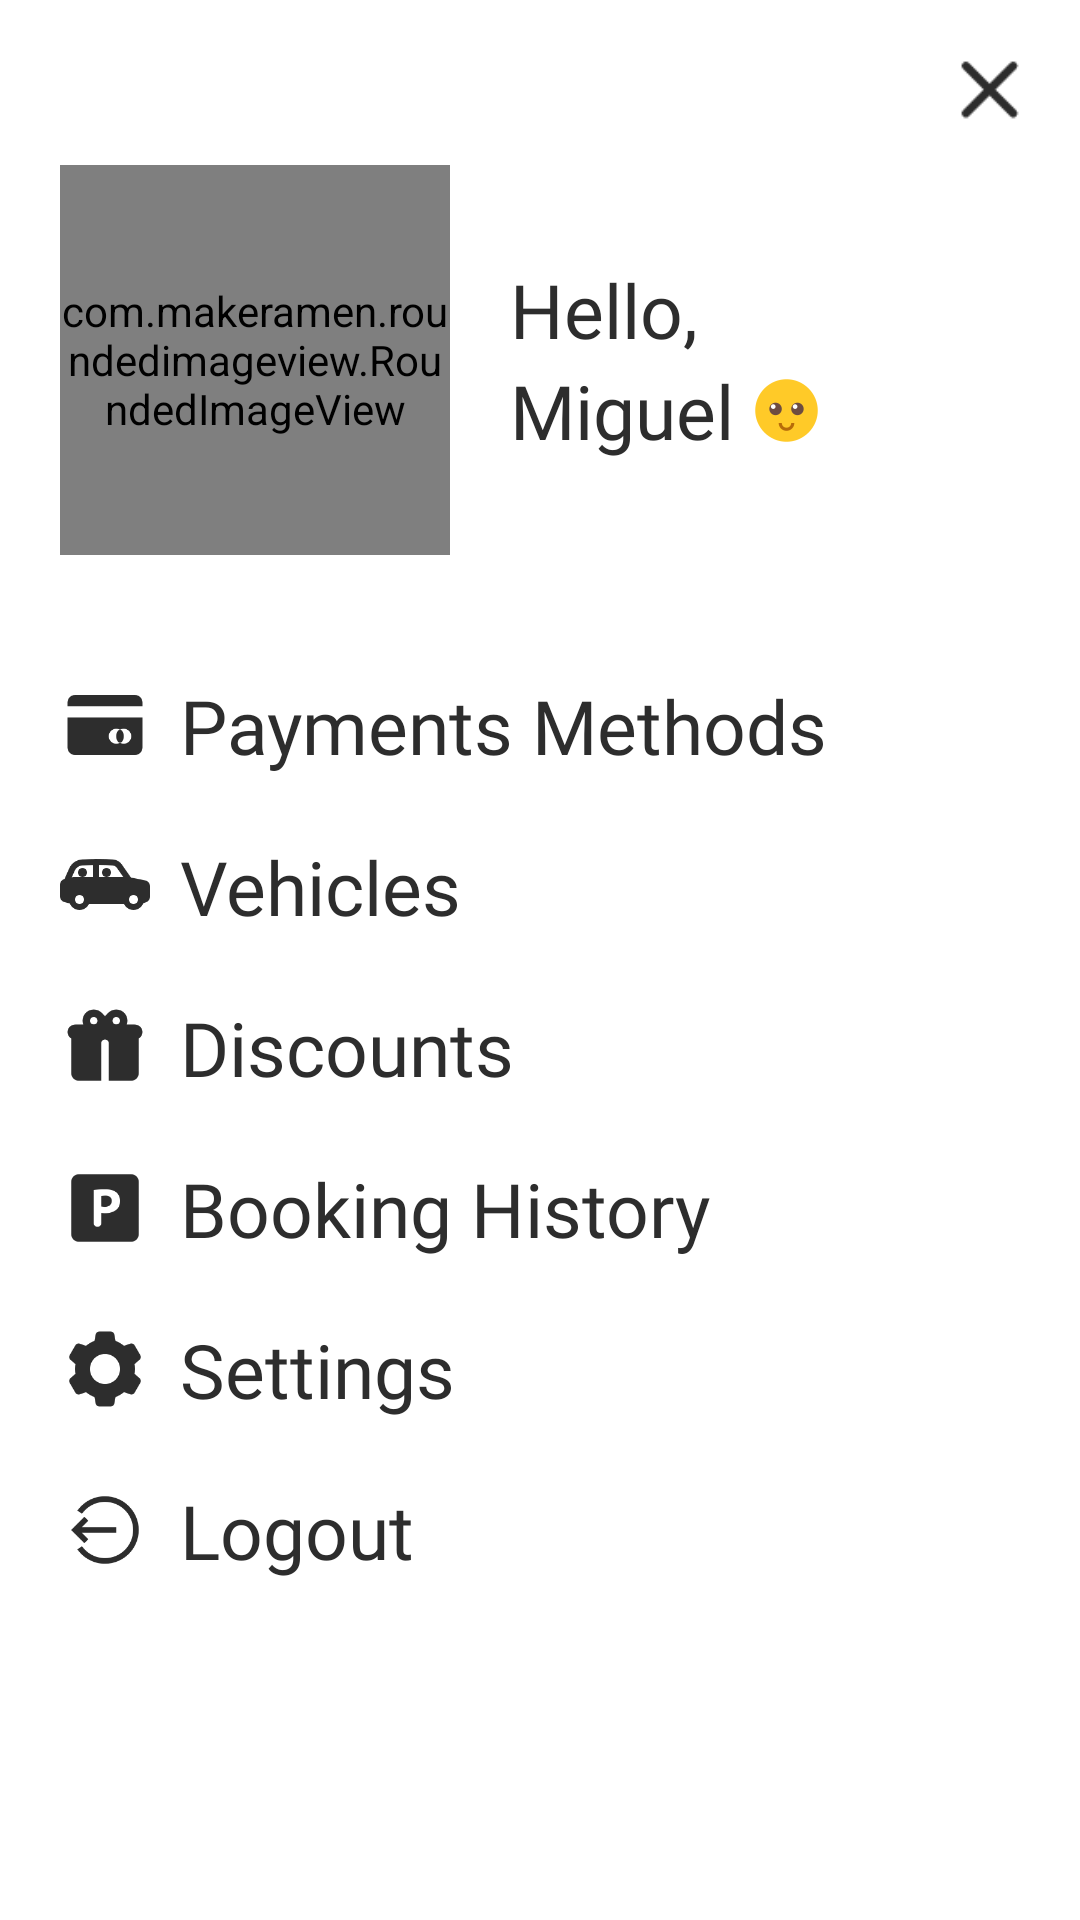

Icons on this 1080x1920 Android screen, each with the point to tap as (x,y):
close: (990,90)
gift: (105,1045)
happy: (786,410)
parking: (105,1208)
